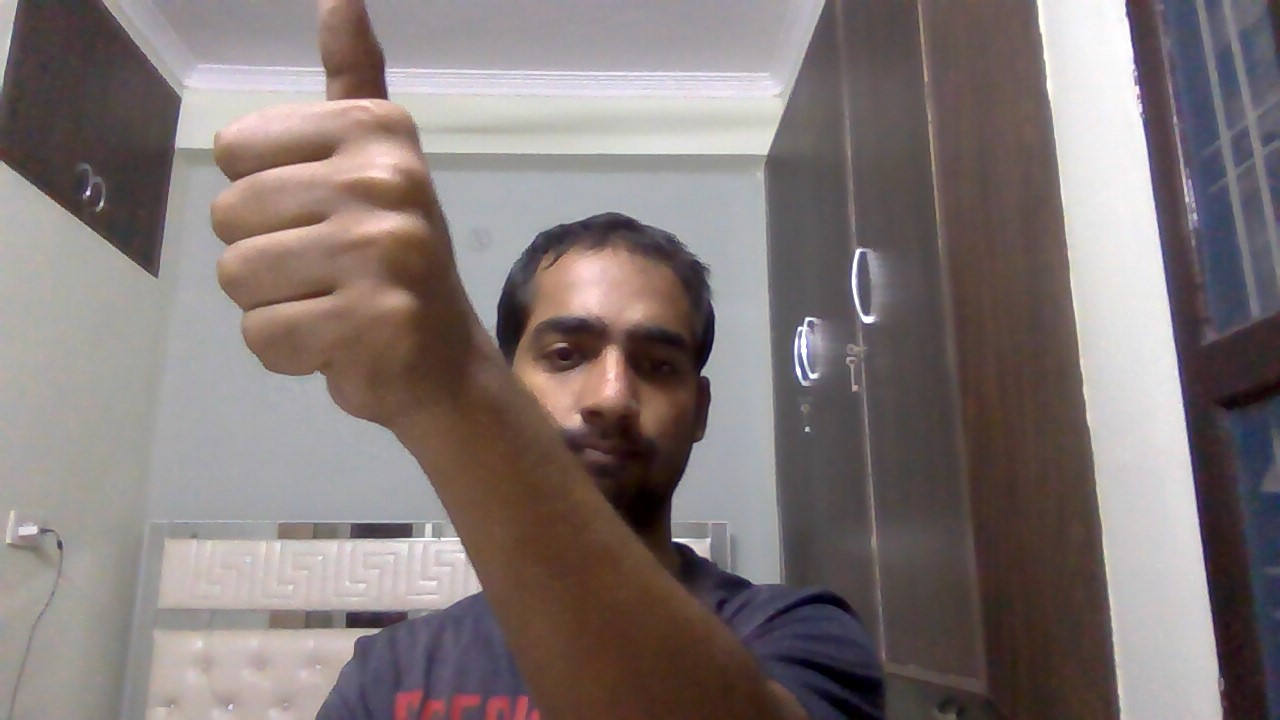Save: (192, 4, 495, 433)
